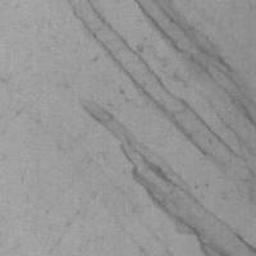Water spot: (61, 0, 256, 210), (76, 97, 256, 256), (31, 113, 175, 256)
